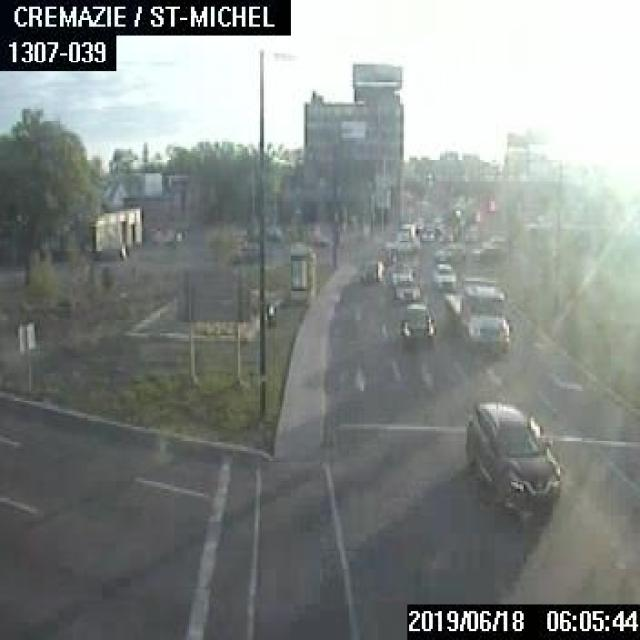vehicle: (463, 400, 560, 511), (442, 275, 509, 349), (398, 299, 436, 344), (392, 275, 420, 302), (430, 261, 454, 290), (359, 258, 383, 284), (434, 242, 464, 262), (388, 261, 413, 283), (419, 227, 434, 240)
